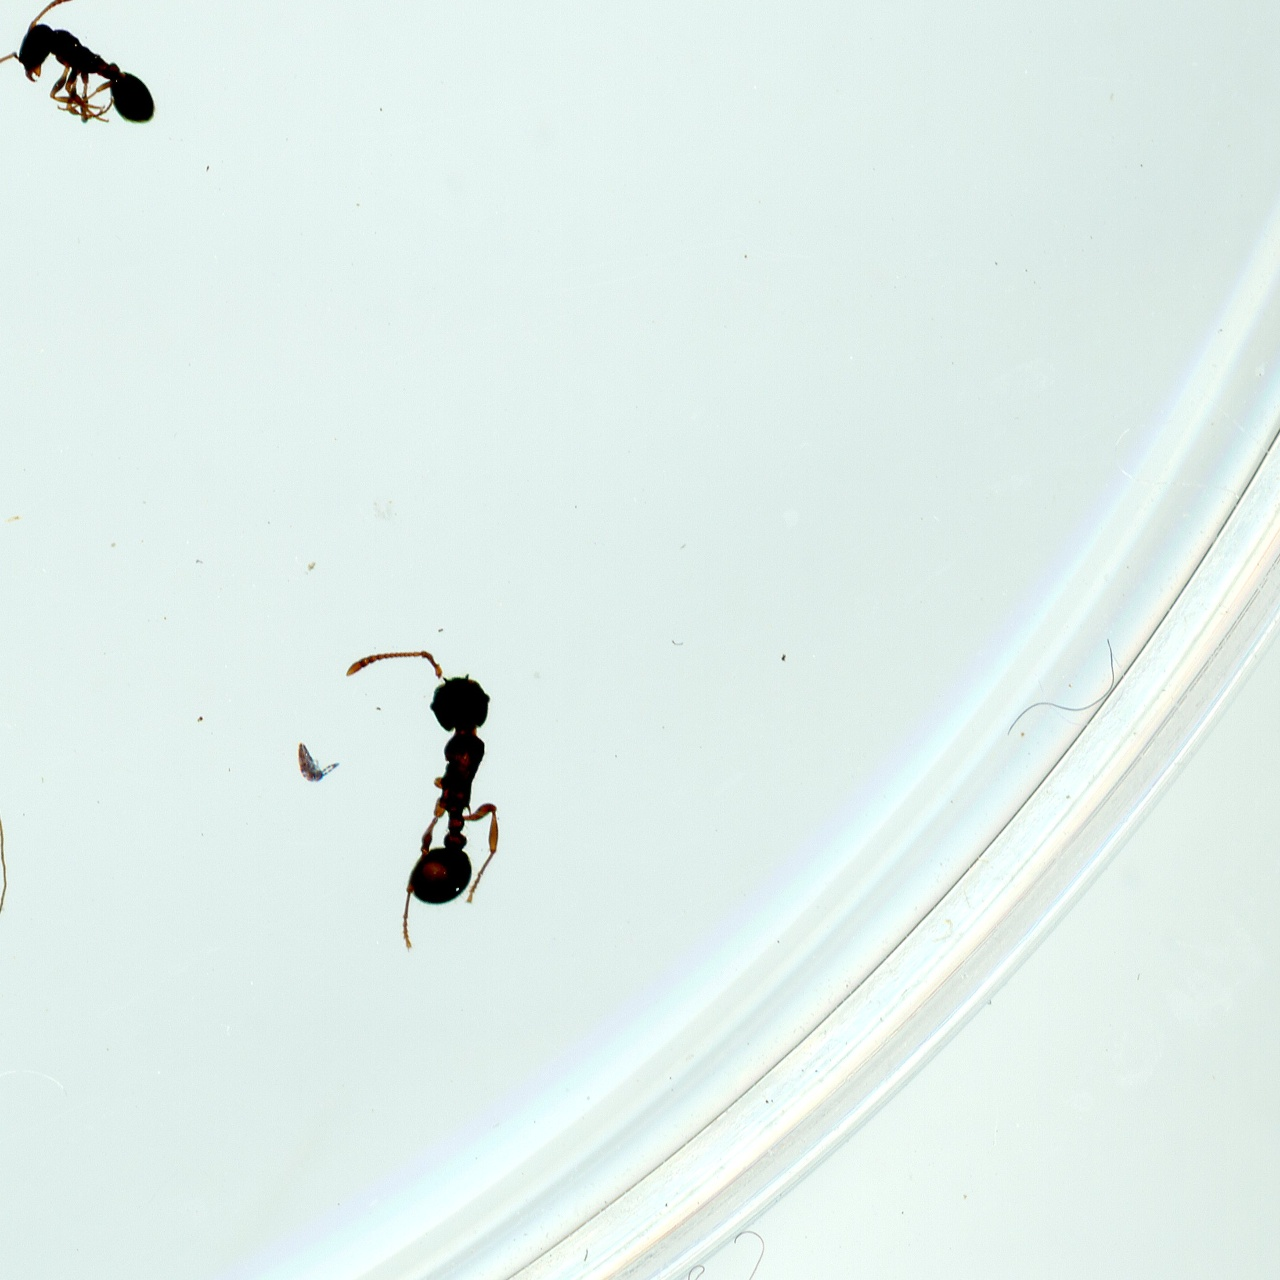arthropod: (341, 624, 515, 955), (0, 0, 203, 211), (293, 735, 345, 789)
